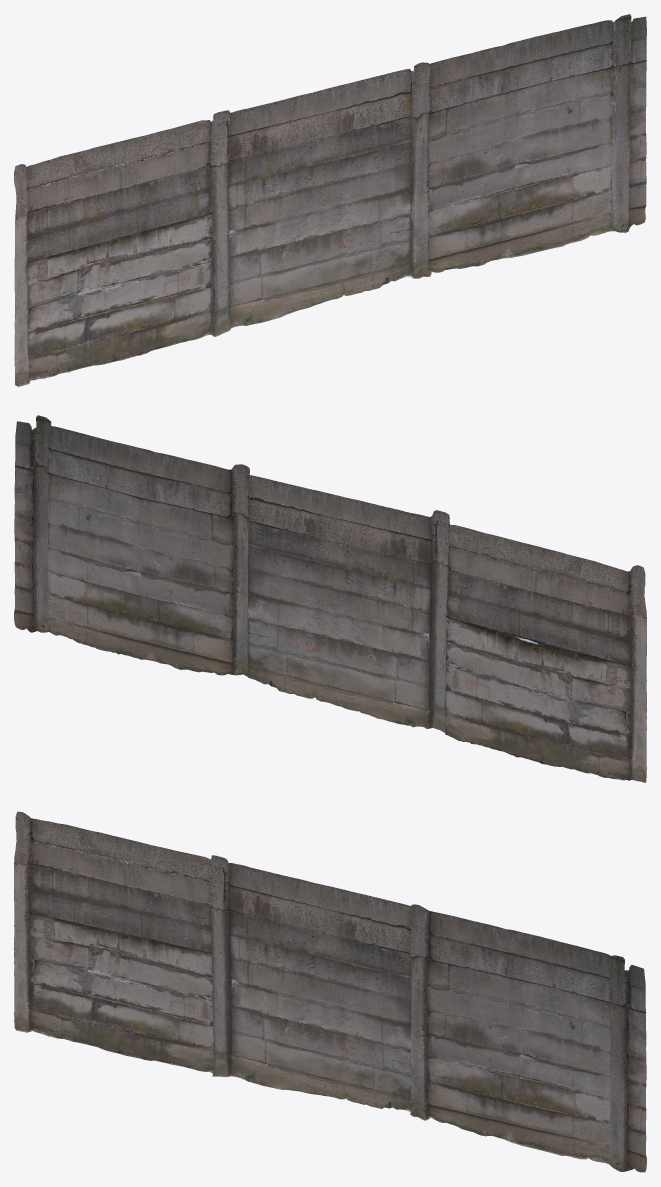
Rendered from concrete_fence.glb.
3 views of the same model, one above another, from view 1: azimuth 30°, elevation 25°; view 2: azimuth 150°, elevation 25°; view 3: azimuth 330°, elevation 25° (orthographic).
Visible parts, largest first — view 1: mur_beton_mur_beton_u1_v1_0, mur_beton_mur_beton_u2_v1_0; view 2: mur_beton_mur_beton_u1_v1_0, mur_beton_mur_beton_u2_v1_0; view 3: mur_beton_mur_beton_u1_v1_0, mur_beton_mur_beton_u2_v1_0.
Boxes of the visible parts, box(x1,y1,x2,y2) form: mur_beton_mur_beton_u1_v1_0: box(16, 16, 646, 386); mur_beton_mur_beton_u2_v1_0: box(14, 14, 646, 385); mur_beton_mur_beton_u1_v1_0: box(14, 421, 634, 780); mur_beton_mur_beton_u2_v1_0: box(14, 415, 646, 782); mur_beton_mur_beton_u1_v1_0: box(15, 815, 646, 1172); mur_beton_mur_beton_u2_v1_0: box(14, 811, 646, 1171).
Bounding box in the file's own units: 7.82 × 2.67 × 0.1689.
Materials: 2 (2 with a texture image).
